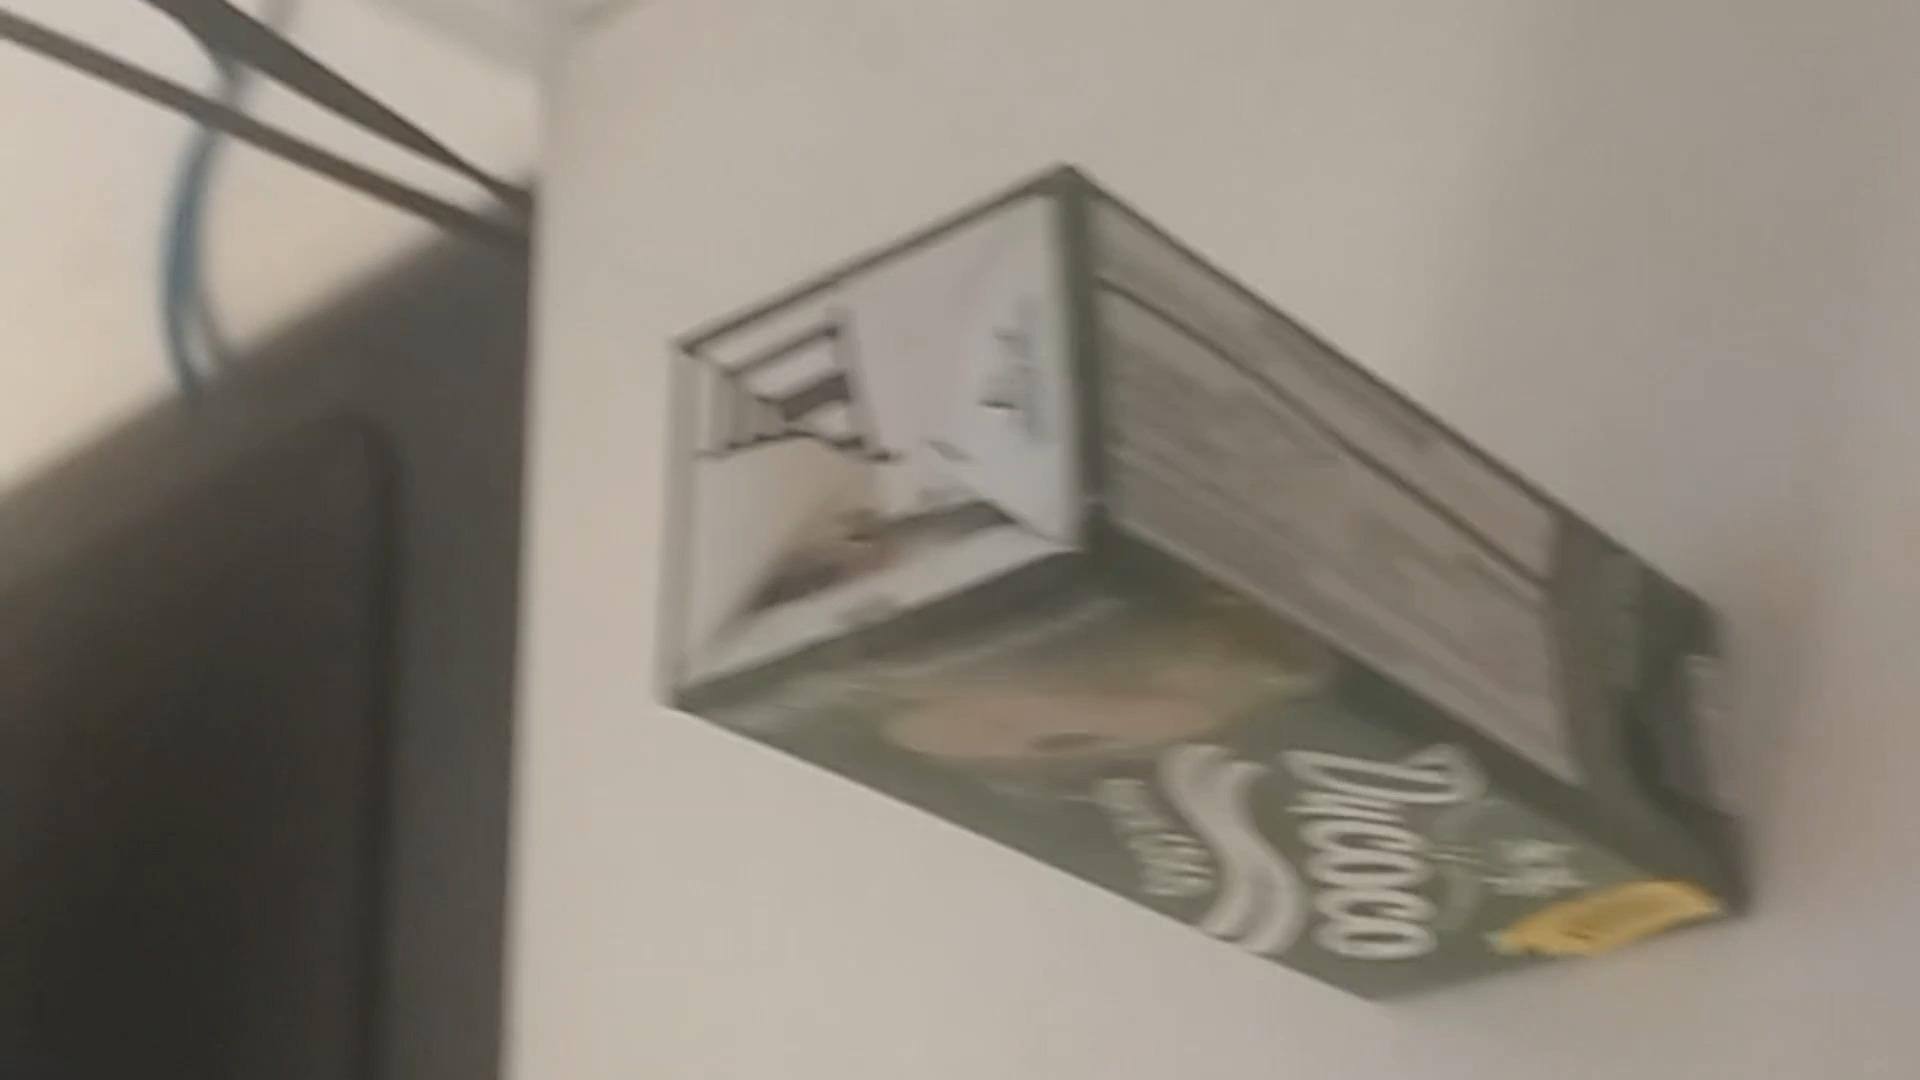coco: (662, 150, 1750, 1010)
